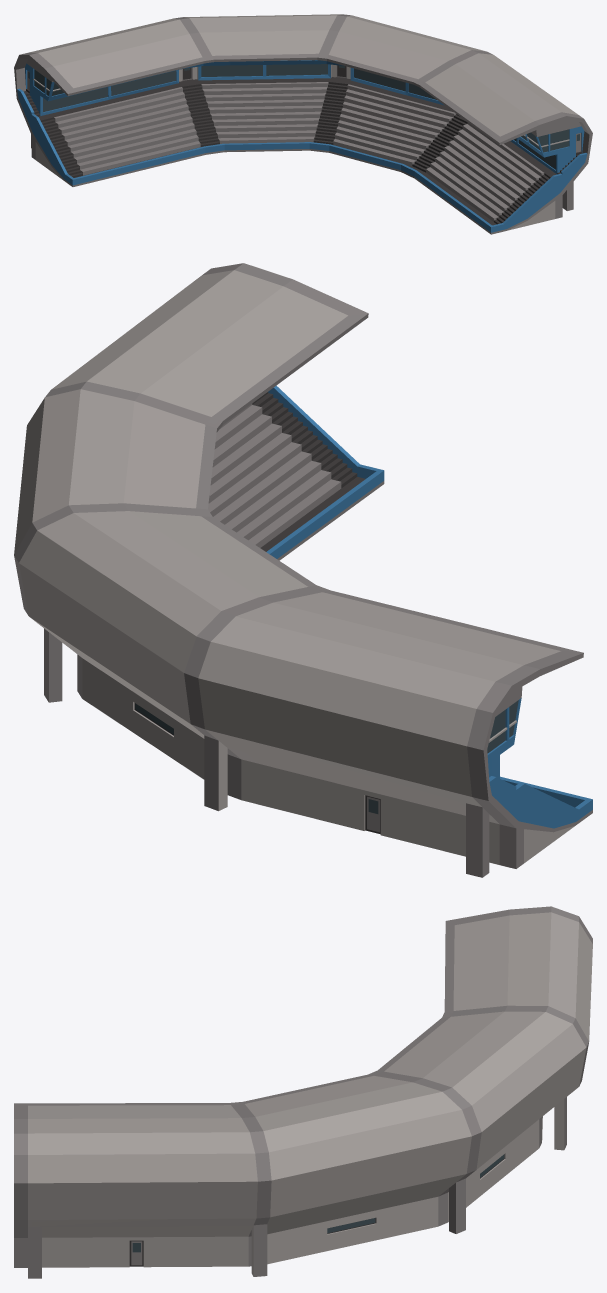
The model's file is racing_tribune-curve.fbx.
The picture shows the model from 3 angles, top to bottom: view 1: azimuth 30°, elevation 25°; view 2: azimuth 150°, elevation 25°; view 3: azimuth 270°, elevation 25°; orthographic projection. The views are drawn at different scales.
Parts seen in each view (by area): view 1: racing_tribune_curve; view 2: racing_tribune_curve; view 3: racing_tribune_curve.
Boxes of the visible parts, x1,y1,x2,y2 form: racing_tribune_curve: (14, 14, 592, 234); racing_tribune_curve: (14, 263, 592, 877); racing_tribune_curve: (14, 906, 592, 1278).
Bounding box in the file's own units: 200 × 52.23 × 200.
